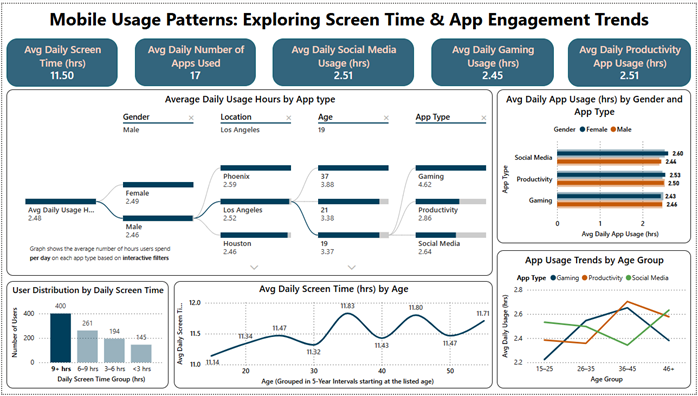

Layout of this report page (visuals, bound fields, positions):
{"tool":"powerbi","page":{"name":"Page 1","canvas":[1280,720],"ordinal":0},"visuals":[{"type":"textbox","box":[0,0,1280,75.8],"z":0},{"type":"decompositionTreeVisual","title":"Average Daily Usage Hours by App type","fields":{"ExplainBy":["mobile_usage_behavioral_analysis.Gender","mobile_usage_behavioral_analysis.Location","mobile_usage_behavioral_analysis.Age","App_Usage_By_Type.App_Usage_Type"],"Analyze":["App_Usage_By_Type.Avg Daily Usage Hours by App Type"]},"box":[8.1,157.6,897.3,343.9],"z":0,"group":"g1"},{"type":"card","title":"Avg Daily Screen Time (hrs)","fields":{"Values":["Avg(mobile_usage_behavioral_analysis.Daily_Screen_Time_Hours)"]},"box":[8.1,63.6,205.1,89],"z":1000},{"type":"card","title":"Avg Daily Number of Apps Used","fields":{"Values":["Avg(mobile_usage_behavioral_analysis.Number_of_Apps_Used)"]},"box":[245.4,63.6,223,88.7],"z":2000},{"type":"card","title":"Avg Daily Social Media Usage (hrs)","fields":{"Values":["Avg(mobile_usage_behavioral_analysis.Social_Media_Usage_Hours)"]},"box":[499,63.6,260.6,88.7],"z":3000},{"type":"card","title":"Avg Daily Productivity App Usage (hrs)","fields":{"Values":["Avg(mobile_usage_behavioral_analysis.Productivity_App_Usage_Hours)"]},"box":[1044.2,63.6,226.6,89],"z":4000},{"type":"card","title":"Avg Daily Gaming Usage (hrs)","fields":{"Values":["Avg(mobile_usage_behavioral_analysis.Gaming_App_Usage_Hours)"]},"box":[791.6,63.6,226.6,88.7],"z":5000},{"type":"lineChart","title":"Avg Daily Screen Time (hrs) by Age","fields":{"Y":["Avg(mobile_usage_behavioral_analysis.Daily_Screen_Time_Hours)"],"Category":["mobile_usage_behavioral_analysis.Age (bins)"]},"box":[317,512.2,588.4,197.9],"z":6000},{"type":"clusteredColumnChart","title":"User Distribution by Daily Screen Time","fields":{"Category":["mobile_usage_behavioral_analysis.ScreenTimeGroup"],"Y":["CountNonNull(mobile_usage_behavioral_analysis.User_ID)"]},"box":[8.1,512.2,299.1,197.9],"z":7000},{"type":"clusteredBarChart","title":"Avg Daily App Usage (hrs) by Gender and App Type","fields":{"Category":["App_Usage_By_Type.App Type"],"Y":["Avg(App_Usage_By_Type.Usage_Hours)"],"Series":["GenderLookup.Gender"]},"box":[913.4,157.6,357.3,284.8],"z":8000},{"type":"lineChart","title":"App Usage Trends by Age Group","fields":{"Y":["Avg(App_Usage_By_Type.Usage_Hours)"],"Series":["App_Usage_By_Type.App Type"],"Category":["App_Usage_By_Type.Age_Group"]},"box":[913.4,454.9,357.3,255.2],"z":9000},{"type":"textbox","box":[45.9,436.5,281.6,61.4],"z":11000,"group":"g1"},{"type":"group","id":"g1","title":"Group 1","box":[8.1,157.6,897.3,343.9],"z":11001}]}

Visuals, with their boxes in screenshot pixels (x1, y1, x2, y2), scaled from the page's 1280x720 canvas onto the 698x396 screenshot:
textbox: x1=0 y1=0 x2=697 y2=42
"Average Daily Usage Hours by App type" decompositionTreeVisual: x1=4 y1=87 x2=494 y2=276
"Avg Daily Screen Time (hrs)" card: x1=4 y1=35 x2=116 y2=84
"Avg Daily Number of Apps Used" card: x1=134 y1=35 x2=255 y2=84
"Avg Daily Social Media Usage (hrs)" card: x1=272 y1=35 x2=414 y2=84
"Avg Daily Productivity App Usage (hrs)" card: x1=569 y1=35 x2=693 y2=84
"Avg Daily Gaming Usage (hrs)" card: x1=432 y1=35 x2=555 y2=84
"Avg Daily Screen Time (hrs) by Age" lineChart: x1=173 y1=282 x2=494 y2=391
"User Distribution by Daily Screen Time" clusteredColumnChart: x1=4 y1=282 x2=168 y2=391
"Avg Daily App Usage (hrs) by Gender and App Type" clusteredBarChart: x1=498 y1=87 x2=693 y2=243
"App Usage Trends by Age Group" lineChart: x1=498 y1=250 x2=693 y2=391
textbox: x1=25 y1=240 x2=179 y2=274
"Group 1" group: x1=4 y1=87 x2=494 y2=276
